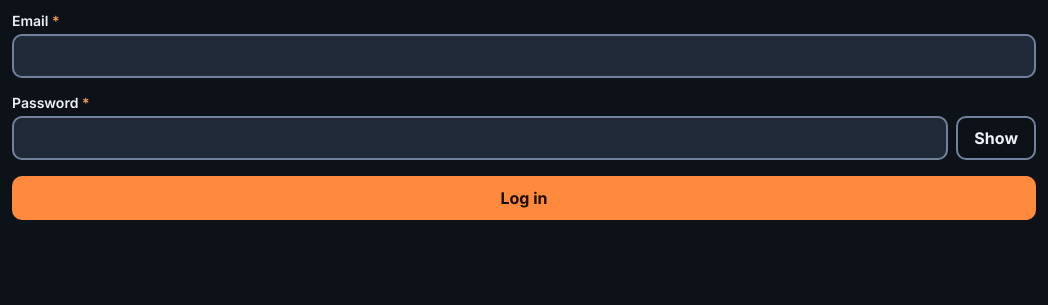
Test: LoginForm › shows the error as an alert, keeps the email and clears the password
Step 1. Type "anna@sk-atlas.se" into the field labelled "Email *" → (524, 56), box [12,34,1036,78]
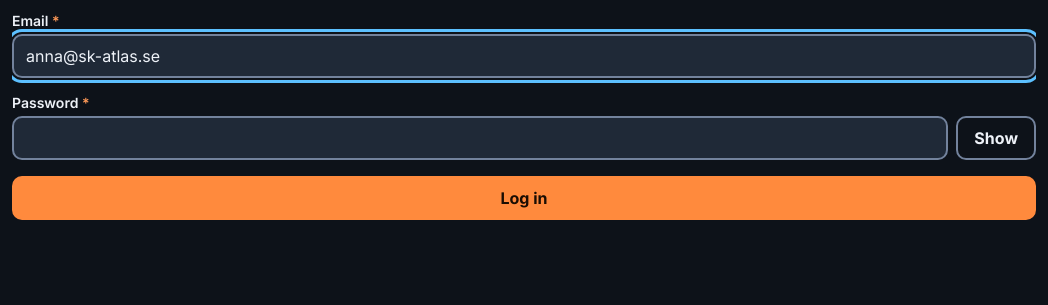
Step 2. Type "wrong" into the password field labelled "Password *" → (480, 138), box [12,116,948,160]
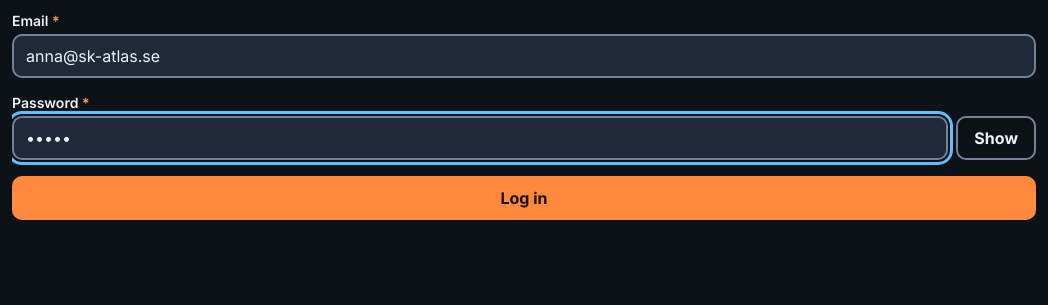
Step 3. Click the button "Log in" → (524, 198), box [12,176,1036,220]
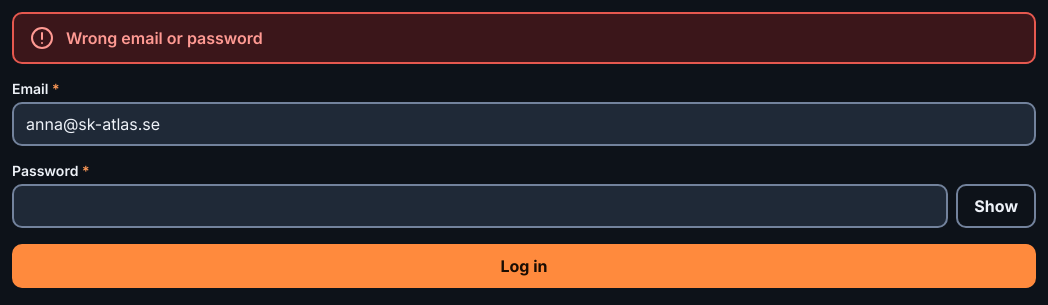
Now the message reads "Wrong email or password", box [66,28,263,48]
Now the password field labelled "Password *" is empty, box [12,184,948,228]
